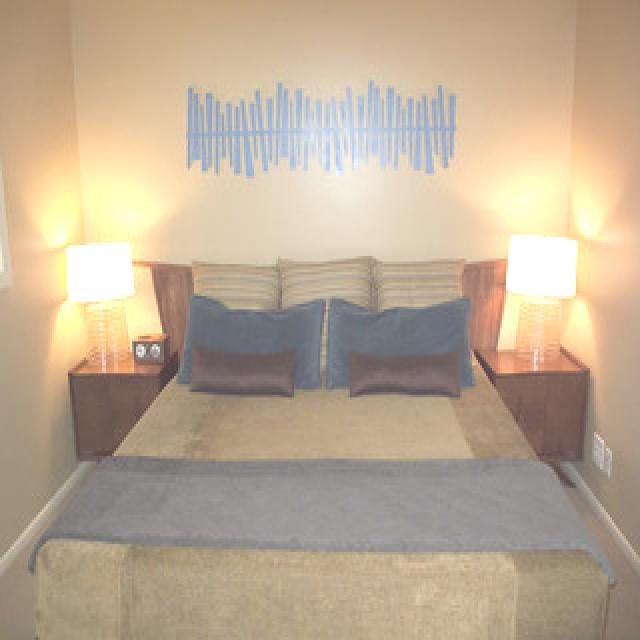bed: (29, 254, 616, 640)
